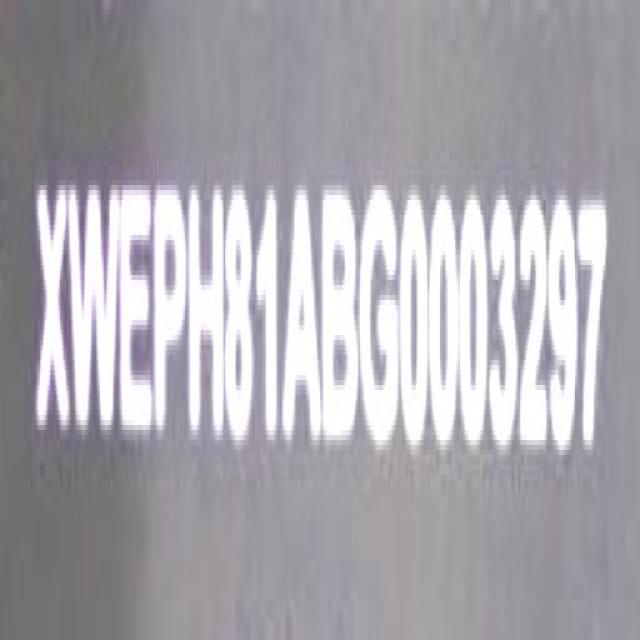0: (400, 186, 432, 458), (459, 186, 490, 456), (429, 188, 460, 457)
1: (256, 178, 284, 456)
2: (520, 195, 550, 457)
3: (490, 187, 521, 457)
7: (580, 191, 611, 460)
8: (224, 181, 255, 456)
9: (548, 192, 578, 458)
A: (284, 179, 323, 456), (188, 179, 227, 452)
B: (321, 178, 361, 454)
E: (118, 176, 156, 449)
G: (358, 179, 401, 457)
P: (154, 176, 190, 448)
W: (71, 171, 122, 448)
X: (35, 177, 72, 446)
